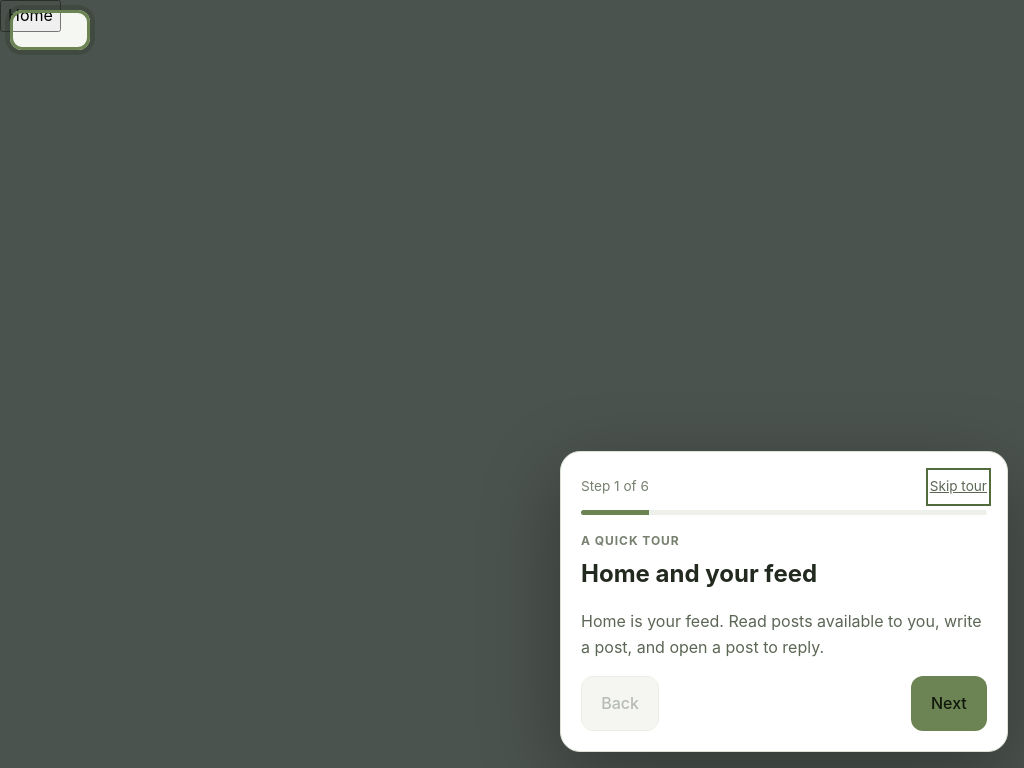
Scenario: GuidedTour › shows progress, highlights the current area, and supports Back and Next
Expected: the dialog with class "guided-tour-dialog" shows "Step 1 of 6", [560,451,1008,752]
Expected: the element with class "guided-tour-spotlight" is shown, [10,10,90,50]
Click the button "Next" at (949, 704), box [911,676,987,731]
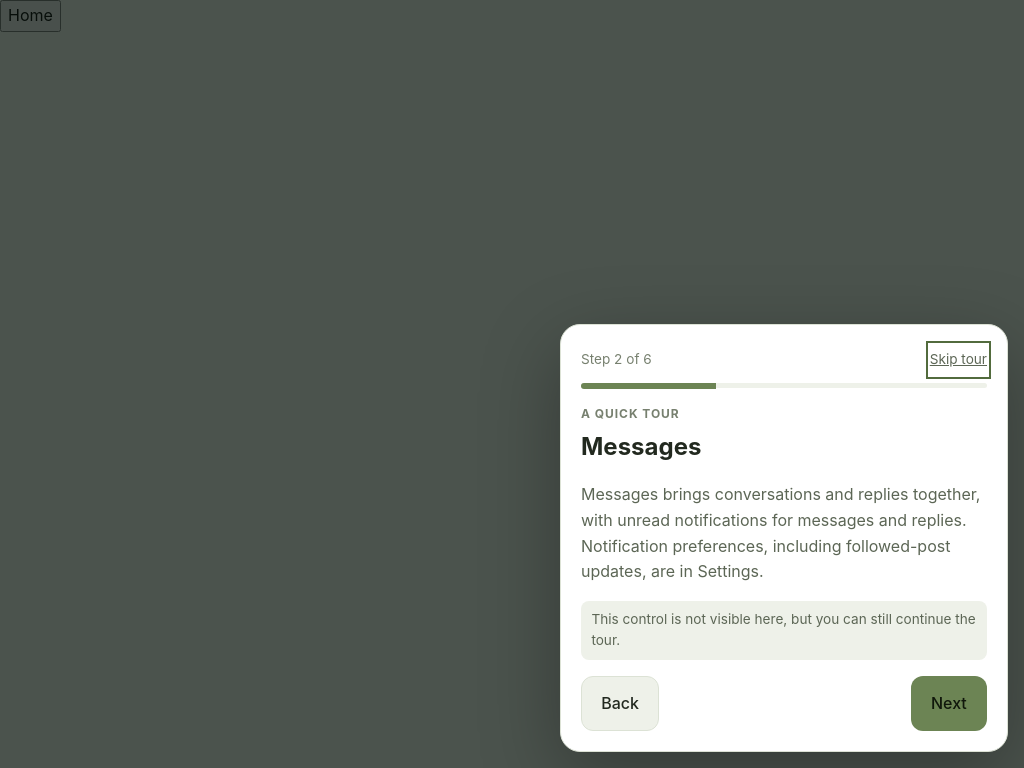
Now the dialog with class "guided-tour-dialog" shows "Messages", box [581,432,701,461]
Now the dialog with class "guided-tour-dialog" shows "unread notifications for messages and replies", box [581,484,980,581]
Now the dialog with class "guided-tour-dialog" shows "Notification preferences, including followed-post updates, are in Settings.", box [581,484,980,581]
Click the button "Back" at (620, 704), box [581,676,659,731]
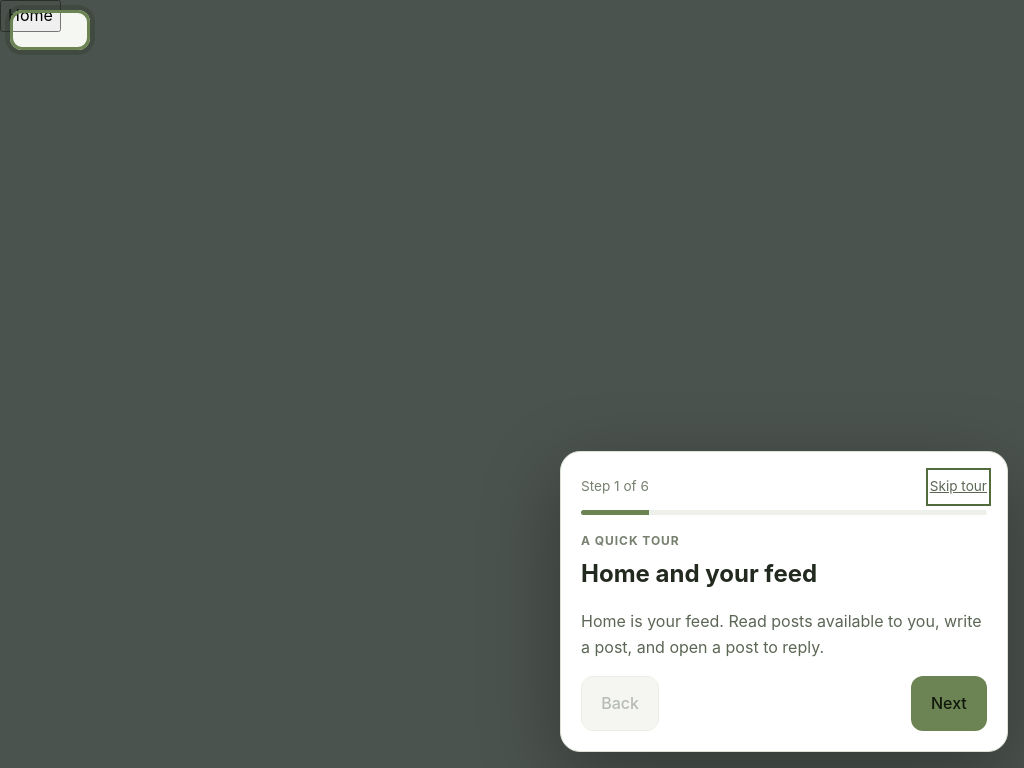
Now the dialog with class "guided-tour-dialog" shows "Step 1 of 6", box [560,451,1008,752]
